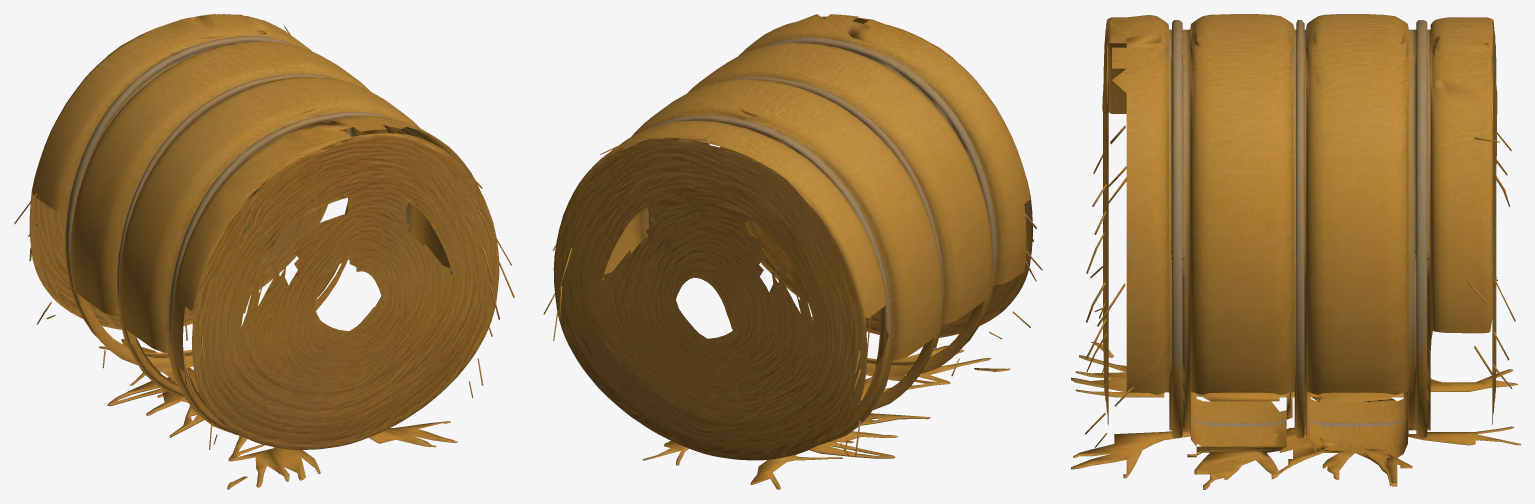
File: Nature__a_hay_bale_6888aecb_v4.cluster.glb
3 views of the same model, side by side, from view 1: azimuth 30°, elevation 25°; view 2: azimuth 150°, elevation 25°; view 3: azimuth 270°, elevation 25° (orthographic). The views are drawn at different scales.
Parts seen in each view (by area): view 1: material; view 2: material; view 3: material.
Boxes of the visible parts, x1,y1,x2,y2 form: material: (14,14,514,489); material: (543,14,1042,489); material: (1071,14,1520,489).
Bounding box in the file's own units: 1.86 × 1.76 × 1.9.
Materials: 1 (1 with a texture image).
